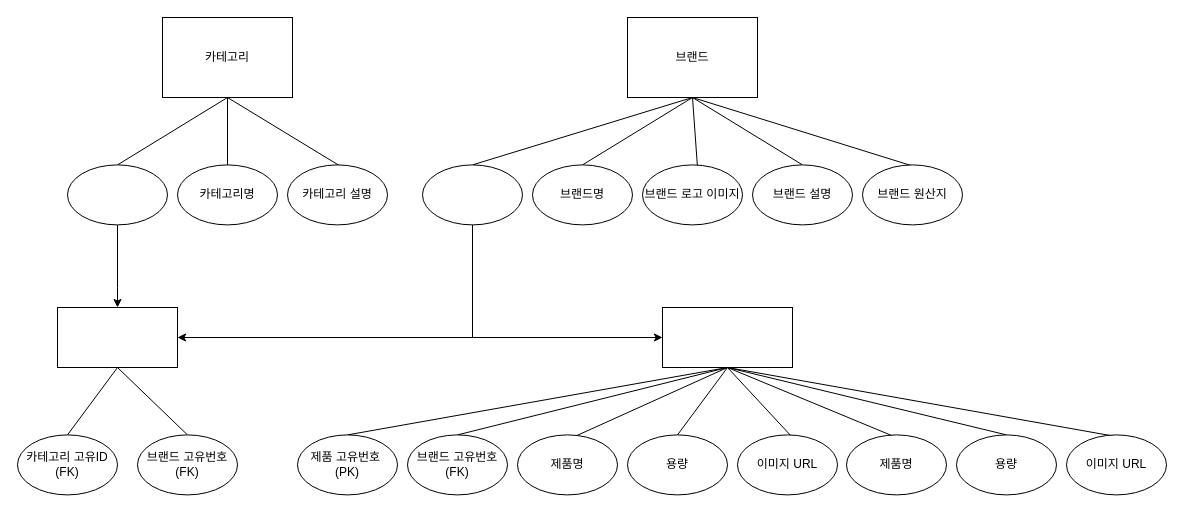
Some shapes in this 1184 by 513 pixel diagram are drawn without their labels. Here are the shapes that lost their labels. From the top down, the centre of each, then its label:
At point 117,194: "카테고리 고유ID(PK)".
At point 472,194: "브랜드 고유번호(PK)".
At point 117,337: "브랜드_카테고리".
At point 727,337: "제품".
